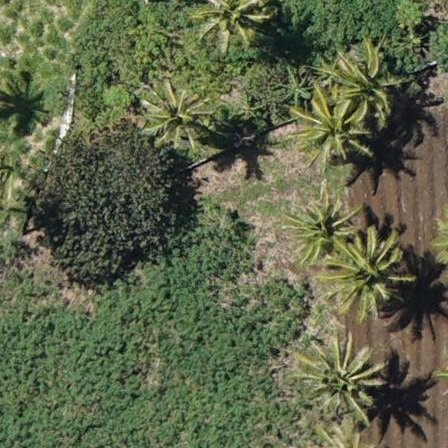palm_tree: (327, 228, 411, 317), (296, 338, 377, 417), (281, 196, 354, 273), (294, 92, 366, 168), (138, 77, 208, 152), (334, 45, 403, 119), (190, 1, 267, 51)
